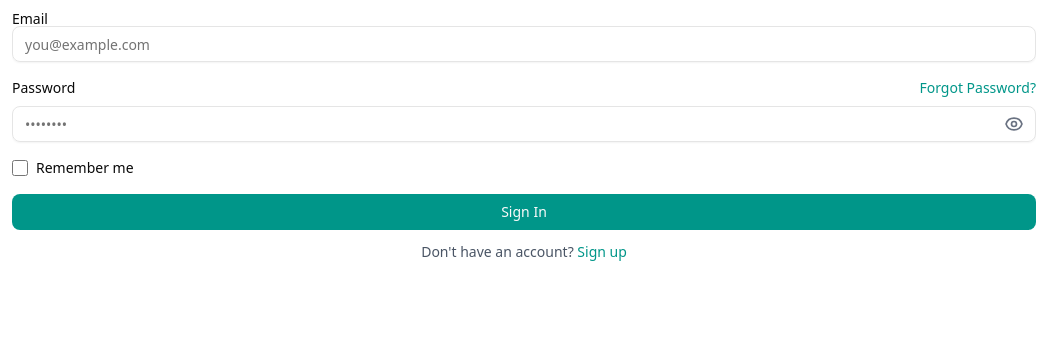
Test: EmailSignInForm › handles unverified email errors
Step 1. Type "unverified@example.com" into the field labelled "Email" → point(524, 44), box [12,26,1036,62]
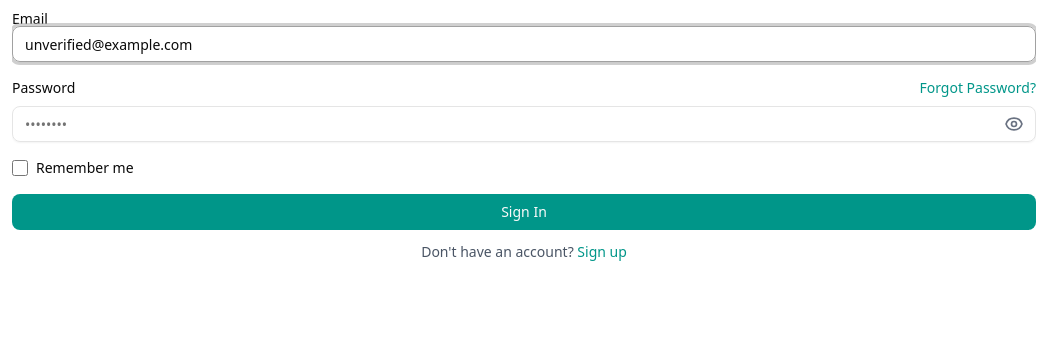
Step 2. Type "password123" into the password field labelled "Password" → point(524, 124), box [12,106,1036,142]
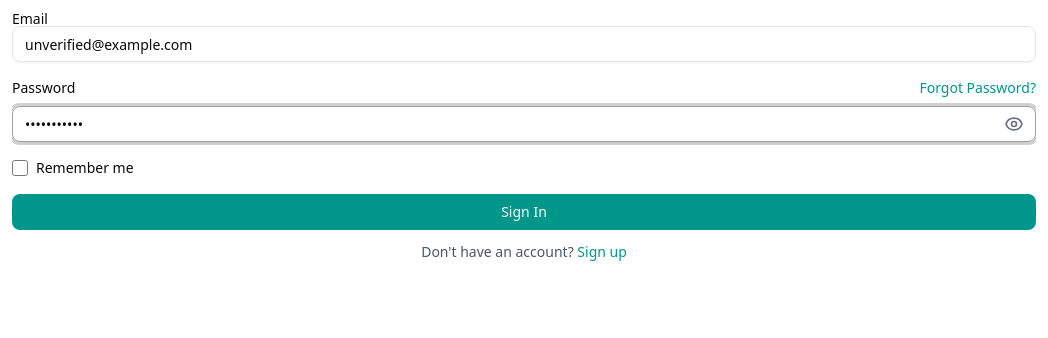
Step 3. Click the button "Sign In" → point(524, 212), box [12,194,1036,230]
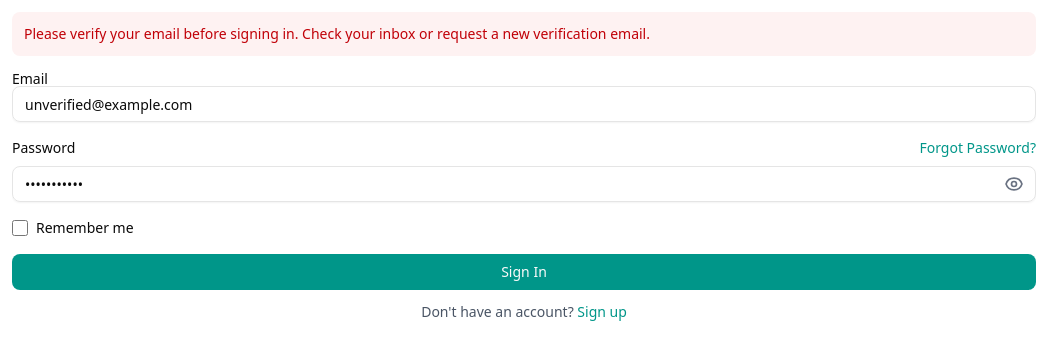
Expected: the text "Please verify your email" is shown, [24,24,650,43]
